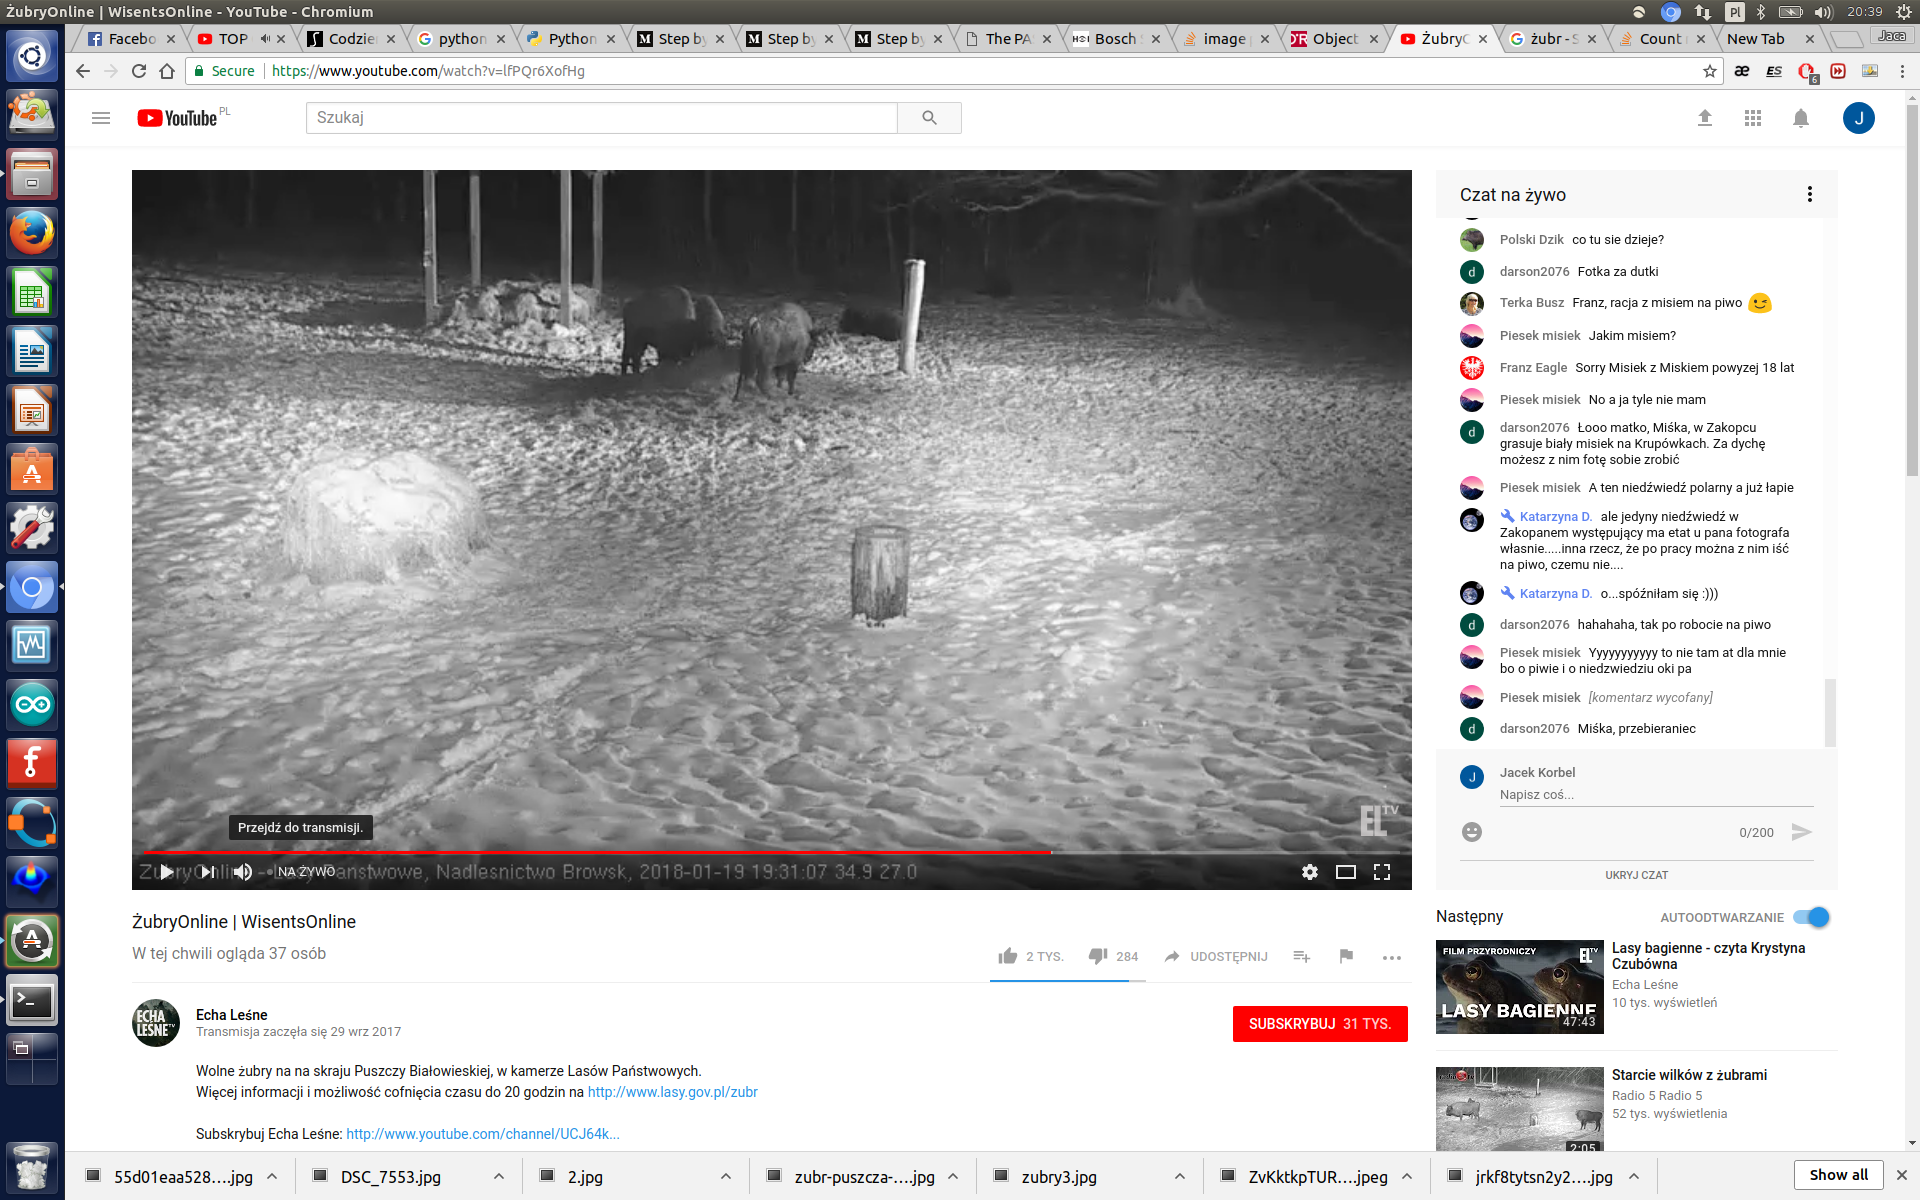zubr: (737, 294, 822, 398), (615, 281, 701, 373), (834, 296, 898, 340), (697, 283, 733, 353)
